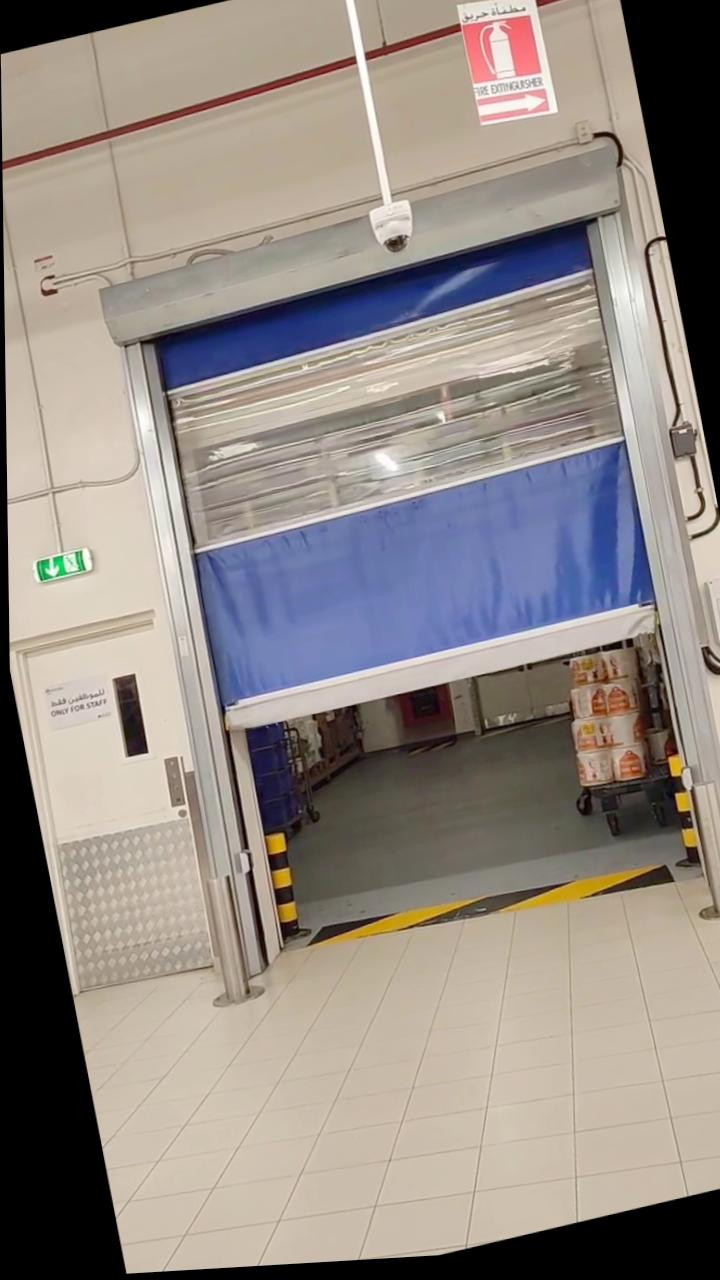Strip: (311, 841, 668, 979)
